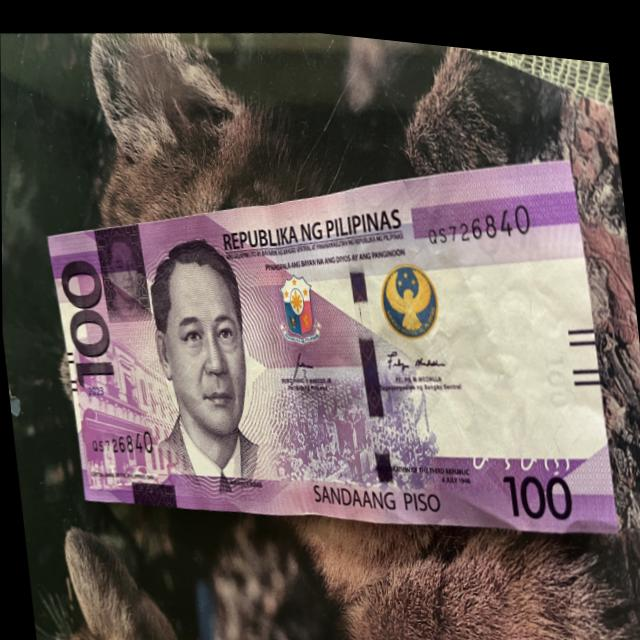concealed_value: (91, 216, 153, 327)
security_thread: (345, 238, 406, 501)
see_through_mark: (460, 424, 579, 476)
value: (55, 249, 122, 400)
value_watermark: (535, 331, 570, 407)
watermark: (425, 239, 576, 460)
